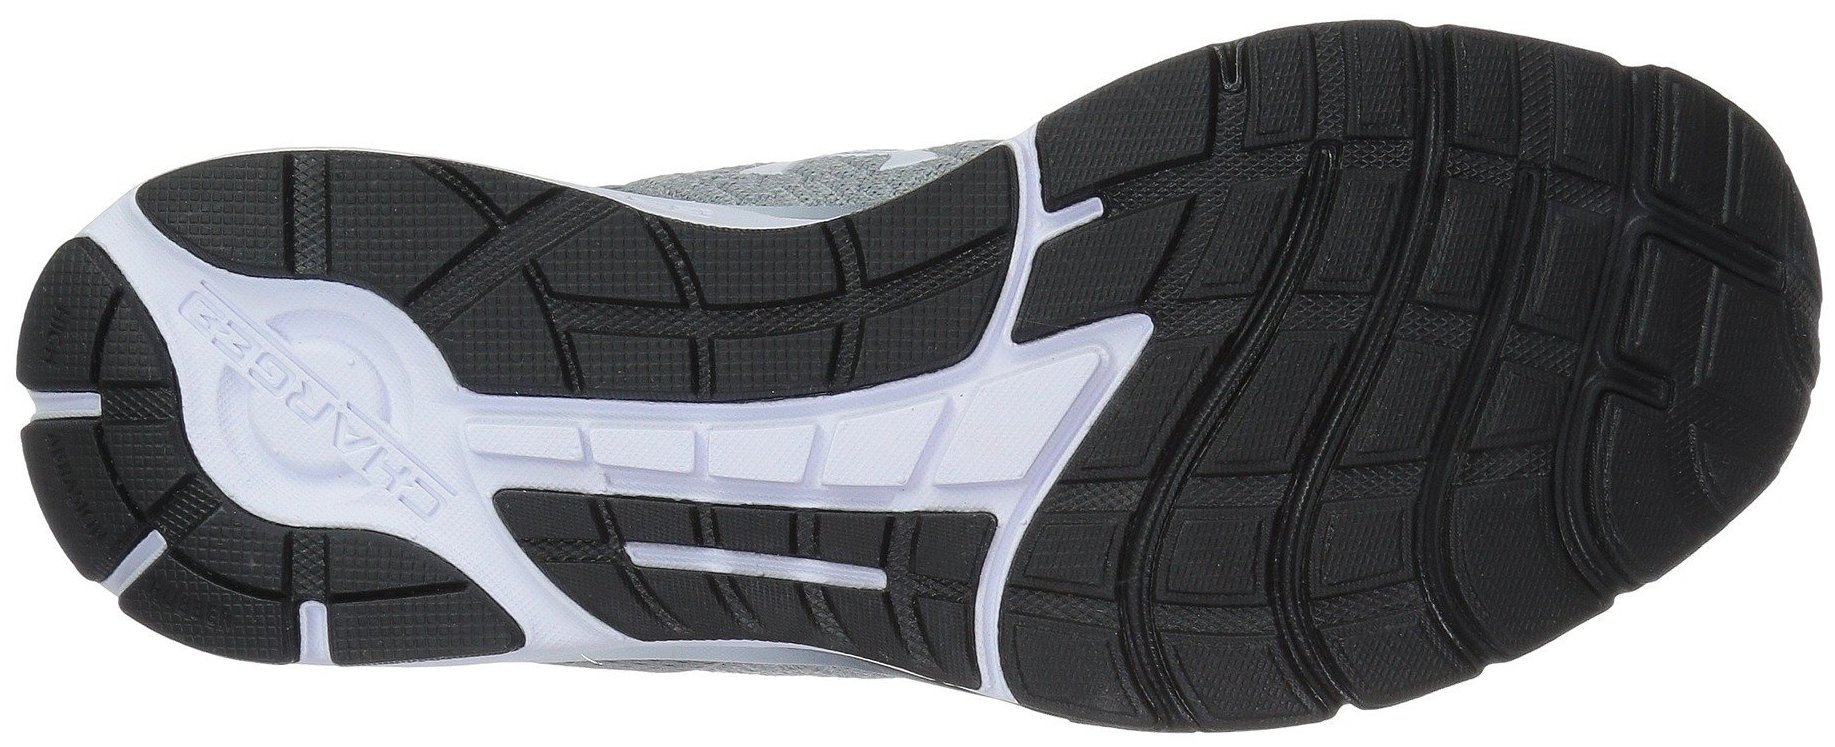circle: (146, 266, 495, 616)
quad: (1200, 155, 1589, 510), (852, 289, 1119, 548), (561, 322, 721, 501)
text: (146, 266, 495, 616)
triangle: (146, 266, 495, 616)
